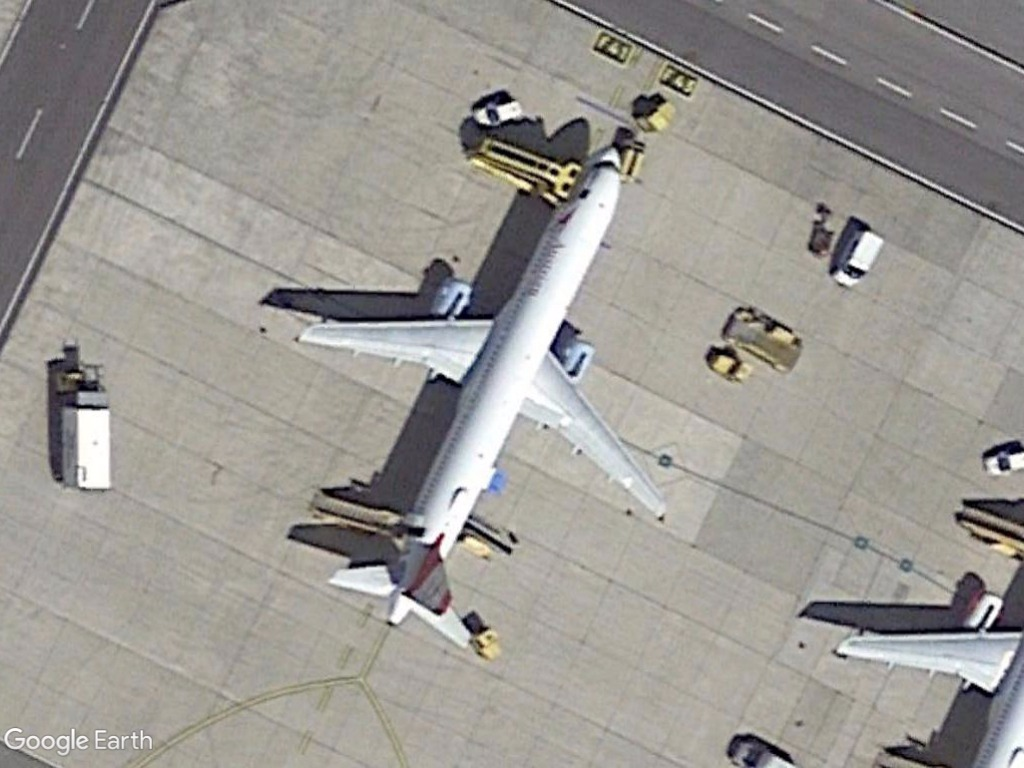airliner: (289, 141, 673, 655)
stairtruck: (472, 132, 577, 208), (309, 485, 406, 547)
van: (827, 228, 889, 292), (470, 95, 527, 131)
